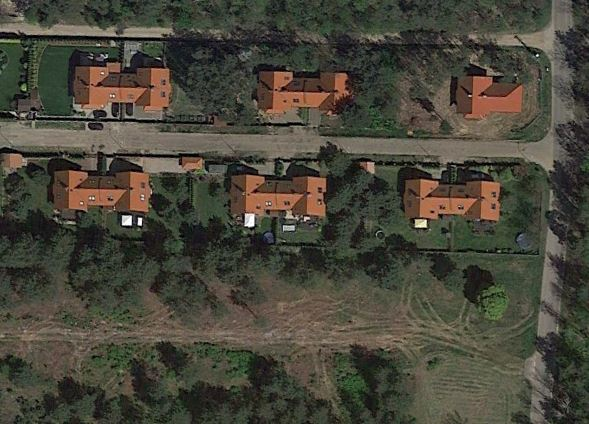terrace house: (247, 67, 356, 119), (71, 58, 174, 112), (225, 171, 332, 221), (47, 167, 154, 217), (398, 175, 505, 225), (452, 73, 527, 120)
